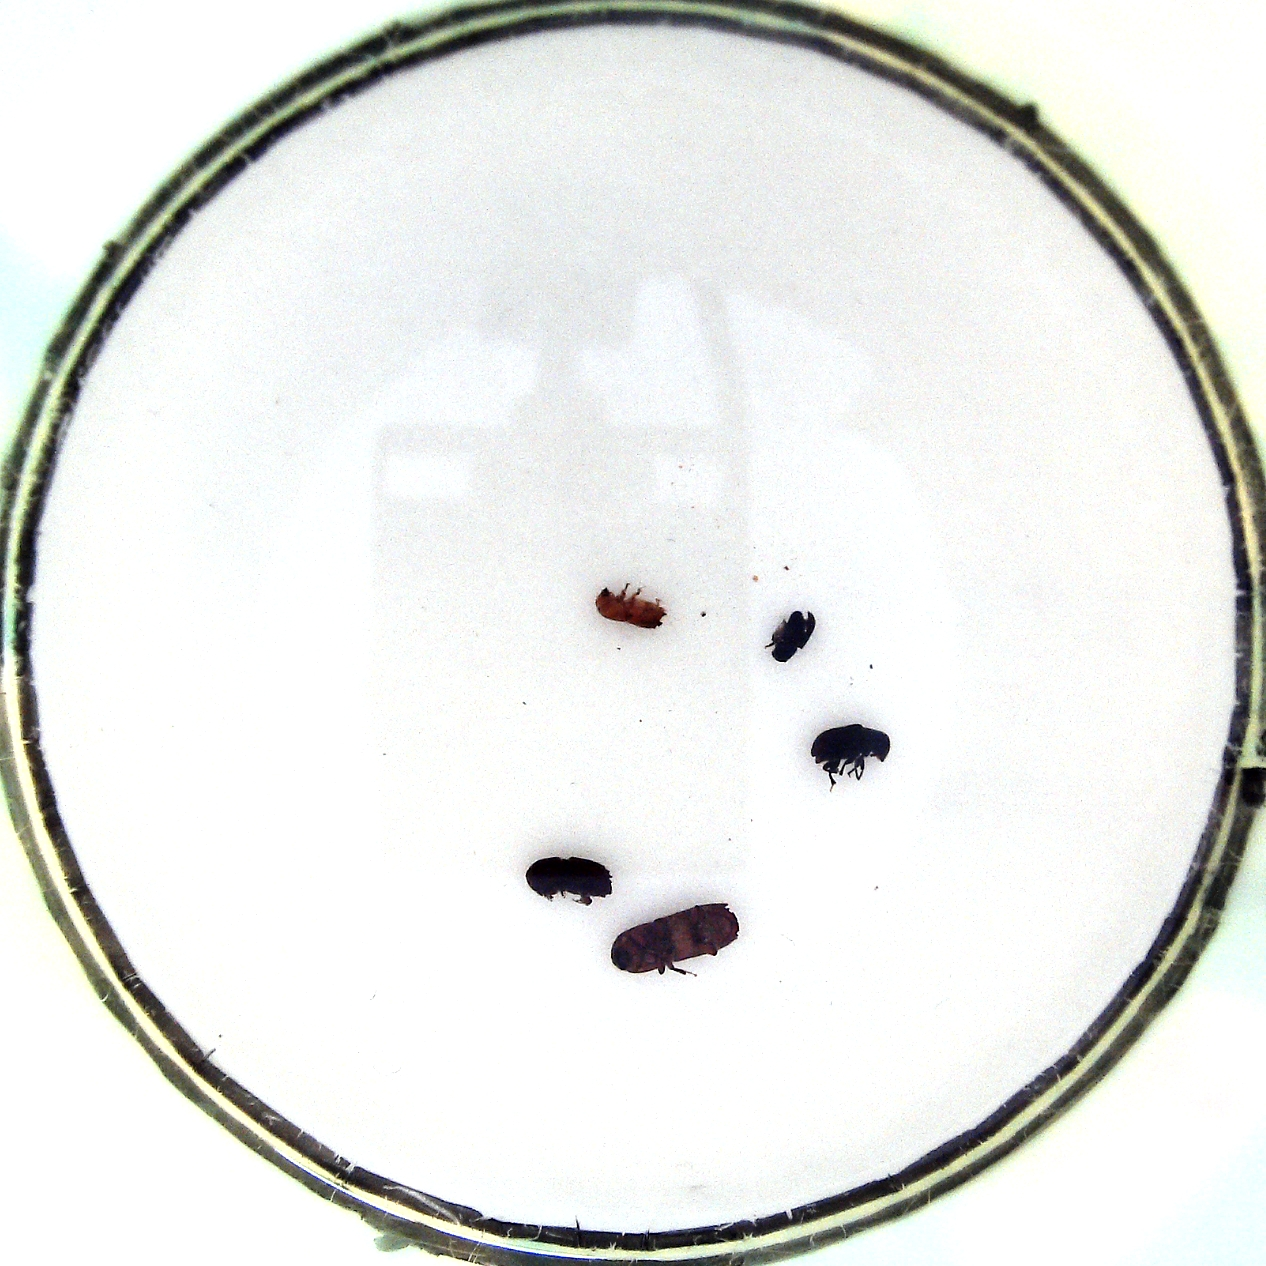Boerner: (609, 898, 745, 981)
Linnaeus: (522, 853, 617, 911)
acuminatus: (591, 575, 671, 635)
armandi: (803, 723, 889, 794)
coleoptera: (770, 606, 821, 665)
